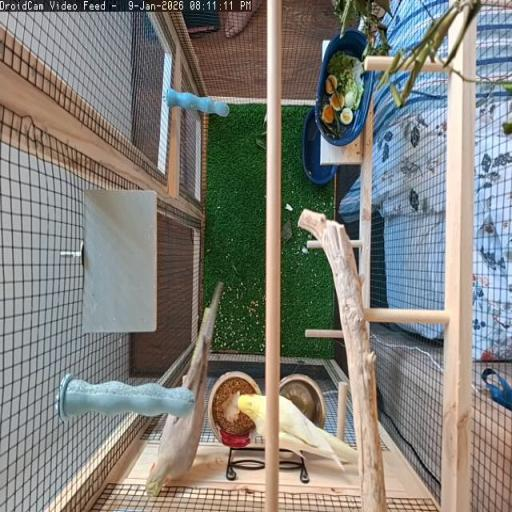bebedero: (280, 373, 326, 427)
comedero: (209, 371, 261, 445)
ninfa: (146, 288, 219, 495), (279, 395, 358, 469), (237, 395, 266, 434)
